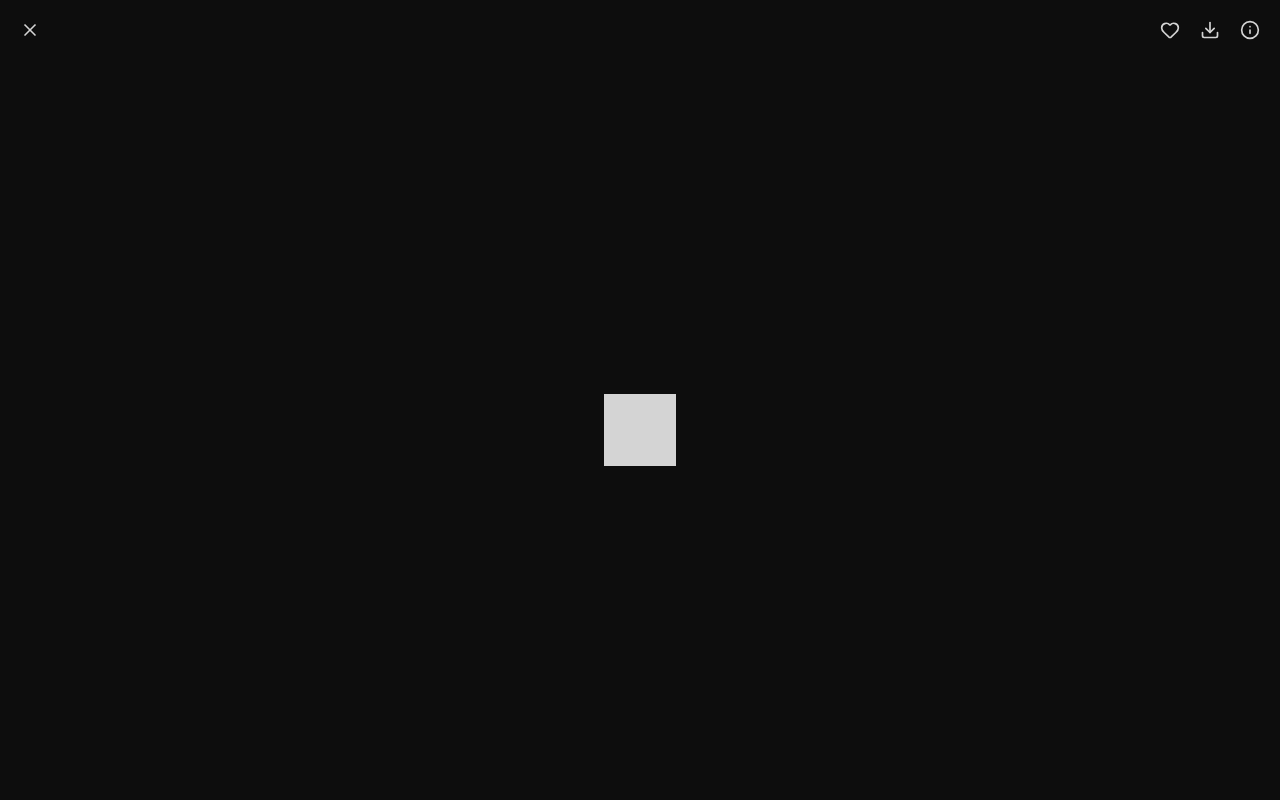
Scenario: Viewer › lista solo las personas de la foto visible
Click the button named "Información".
click(1250, 30)  # box [1232,12,1268,48]
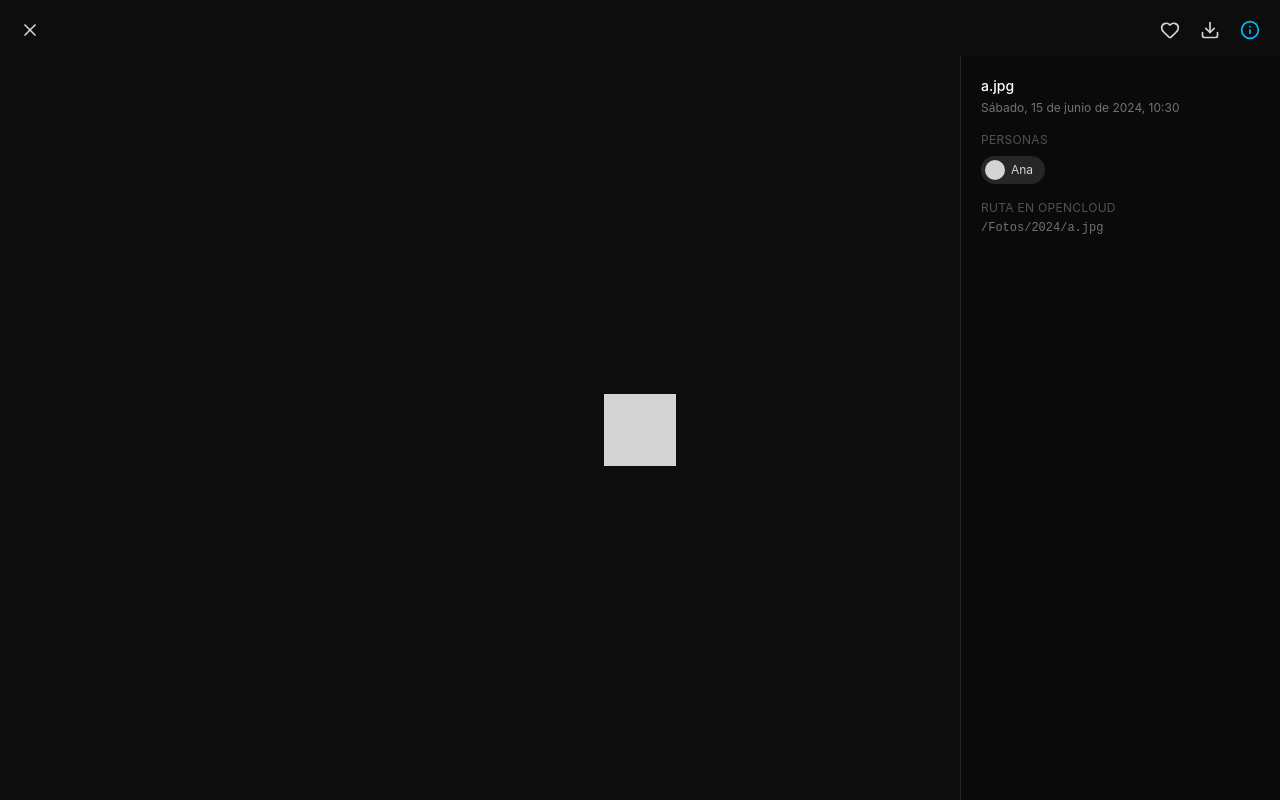
Now the element that starts with "a.jpg" shows "Ana", box [1011,162,1033,177]
